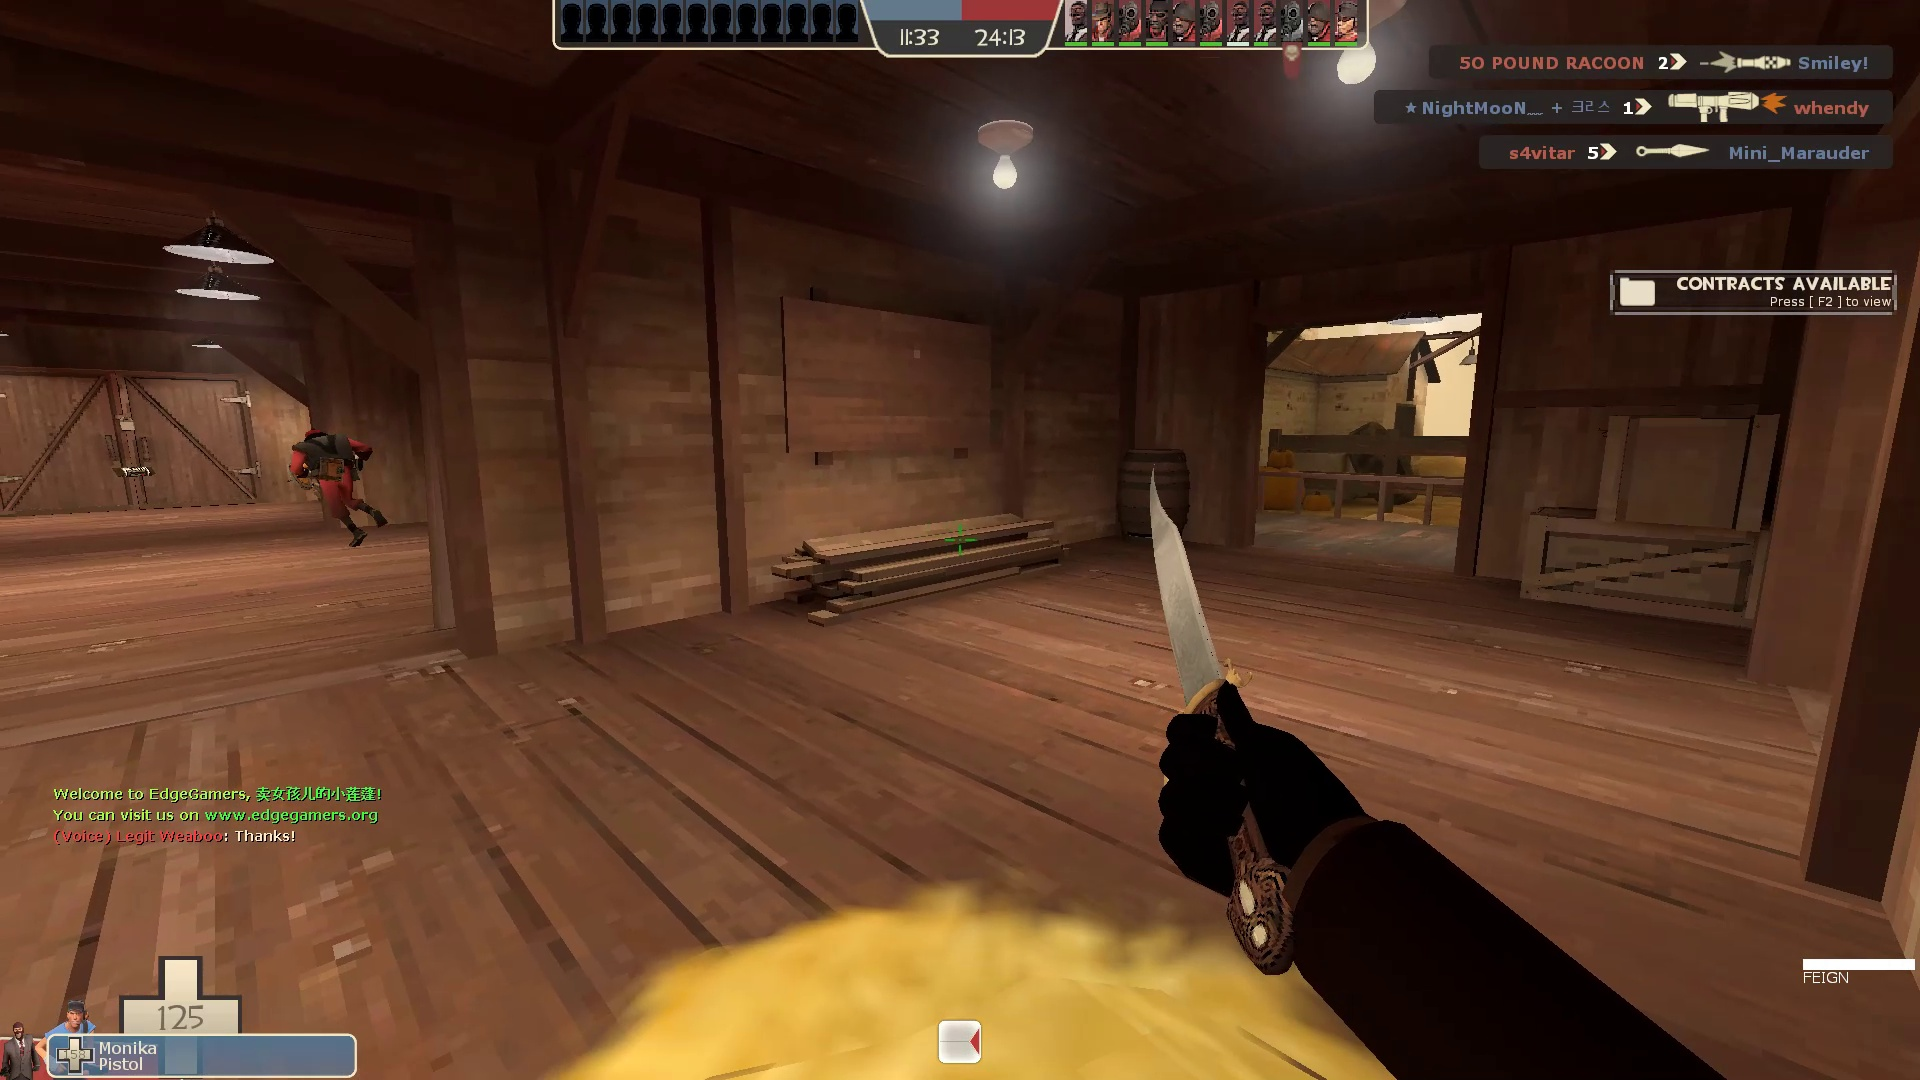red_demo: (273, 418, 392, 554)
